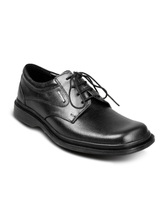shoesd: (12, 61, 157, 159)
